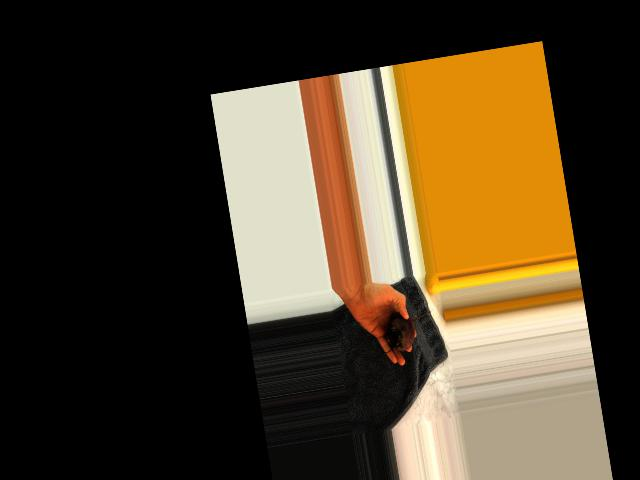beet: (381, 307, 436, 352)
